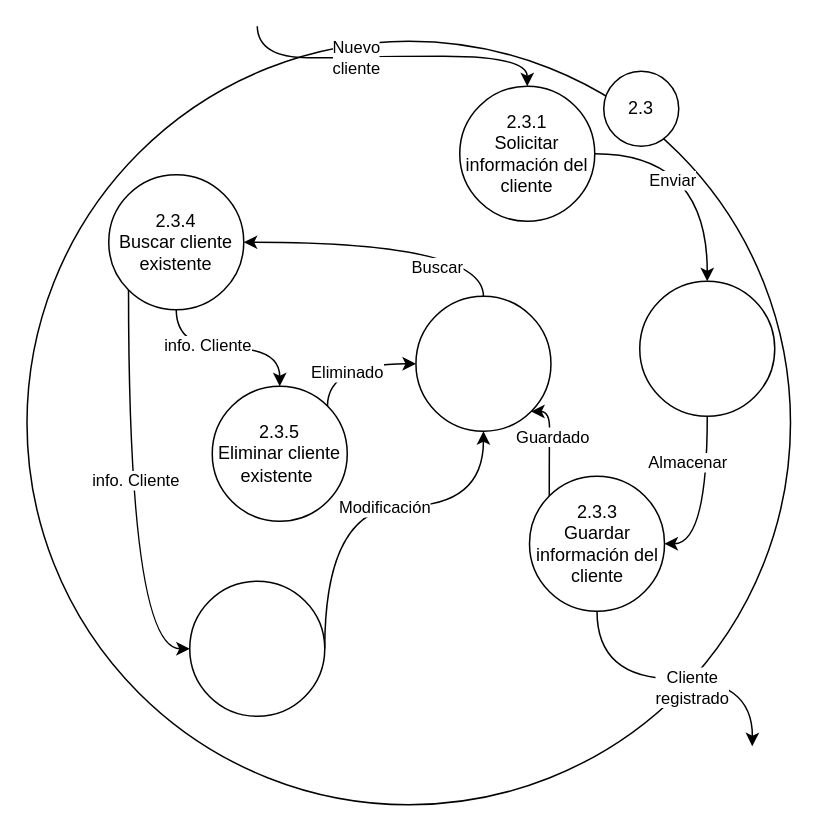
This 816x831 diagram has some shape labels left out. The box of each missing label's shape, as (x1, y1, x2, y2) in pixels:
2.3.2 Verificar que todos los campos se han llenado: (638, 280, 775, 416)
2.3.6 Modificar info del cliente: (188, 580, 325, 716)
2.3.7 Actualizar tabla: (414, 295, 551, 431)
